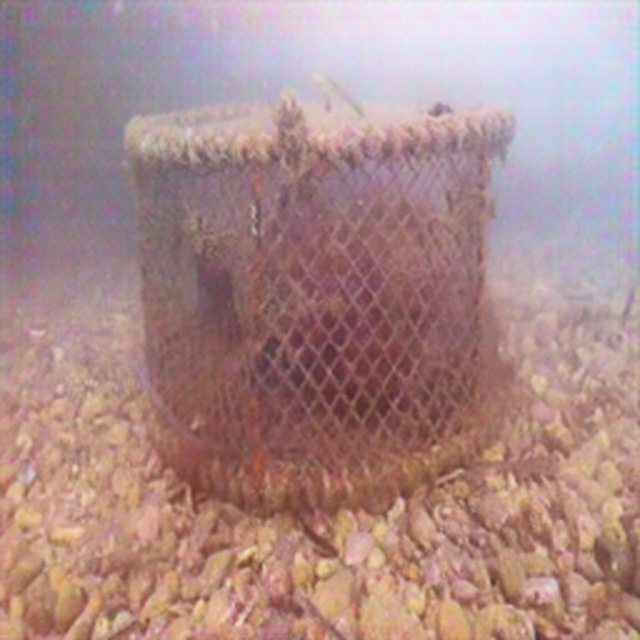mine: (122, 99, 515, 513)
